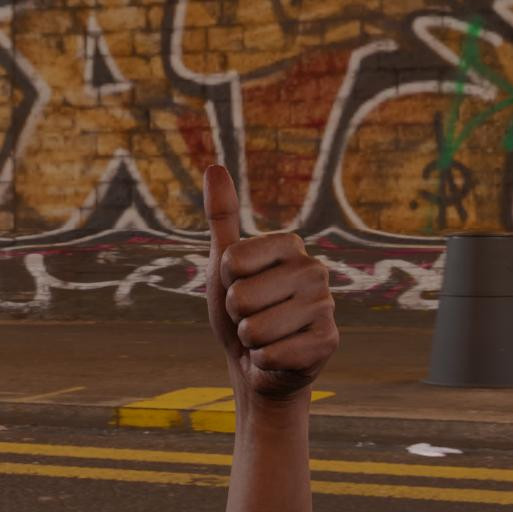thumbs-up: (201, 100, 346, 395)
